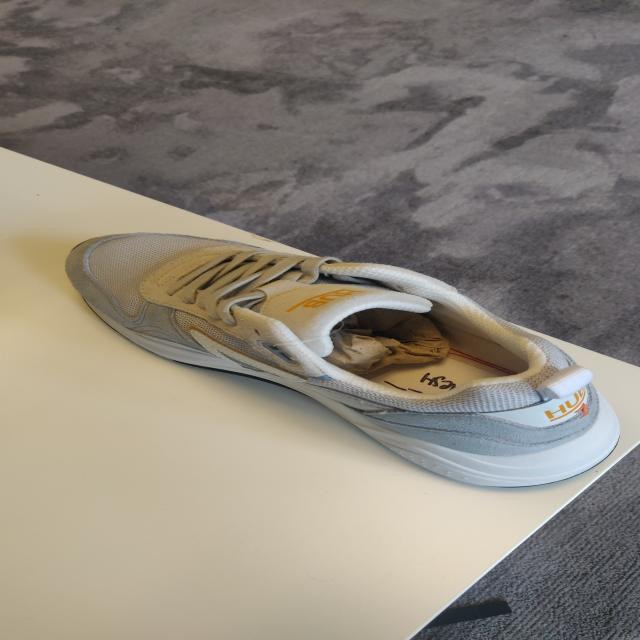shoe: (63, 232, 622, 490)
